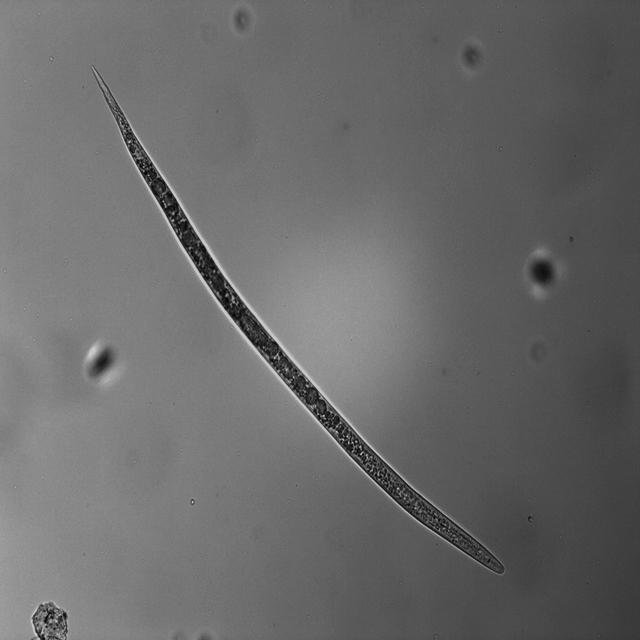Meloidogyne: (83, 55, 505, 578)
